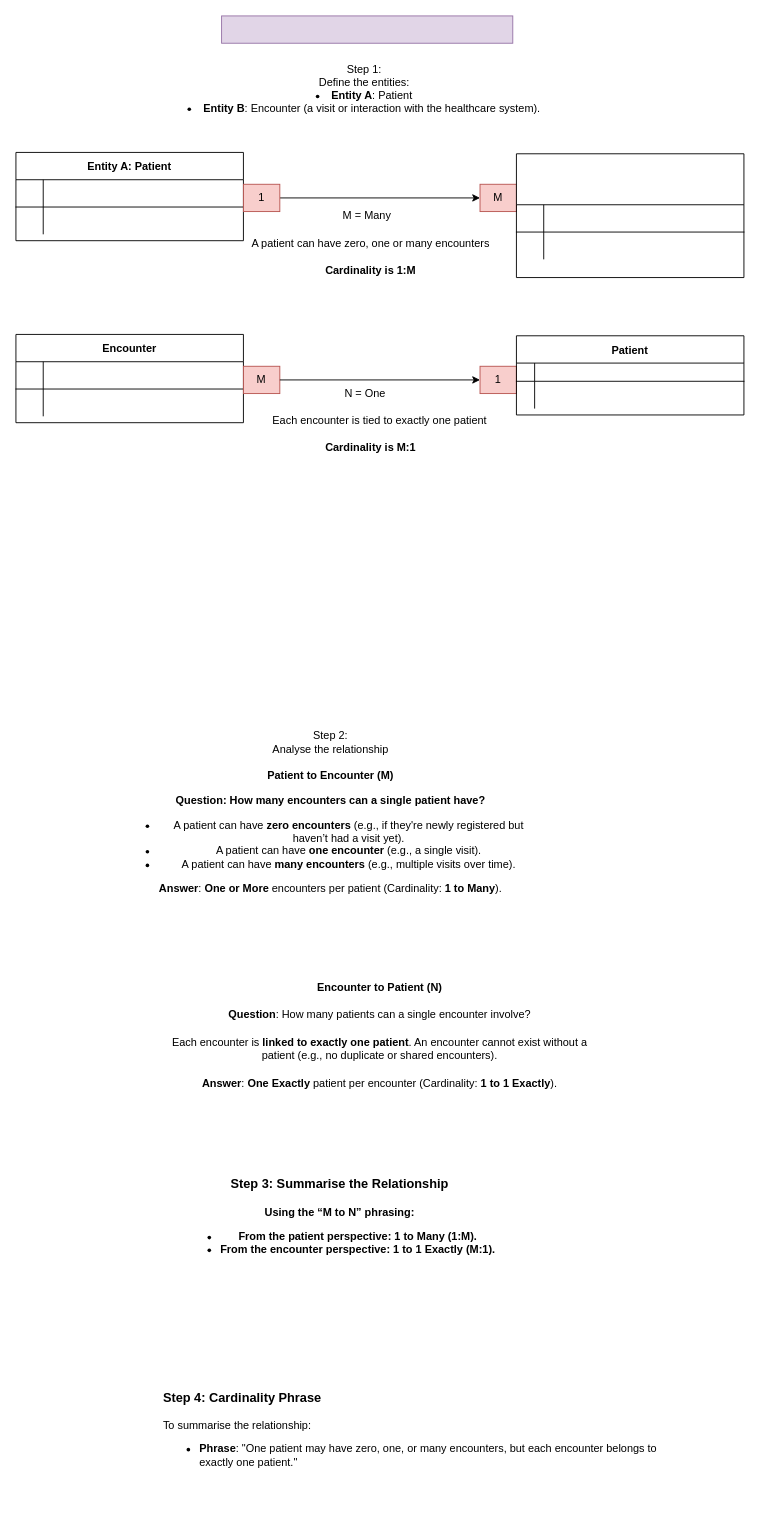
The diagram is 760 pixels wide and 1515 high, and some of its shapes have lost their labels. The shapes that lost their labels are listed below. From the top down, each one's box as (x1, y1, x2, y2) in pixels, then its label:
(221, 15, 513, 43): PATIENT TO ENCOUNTER
(516, 153, 744, 278): Entity B: Encounter (a visit or interaction with the healthcare system)
